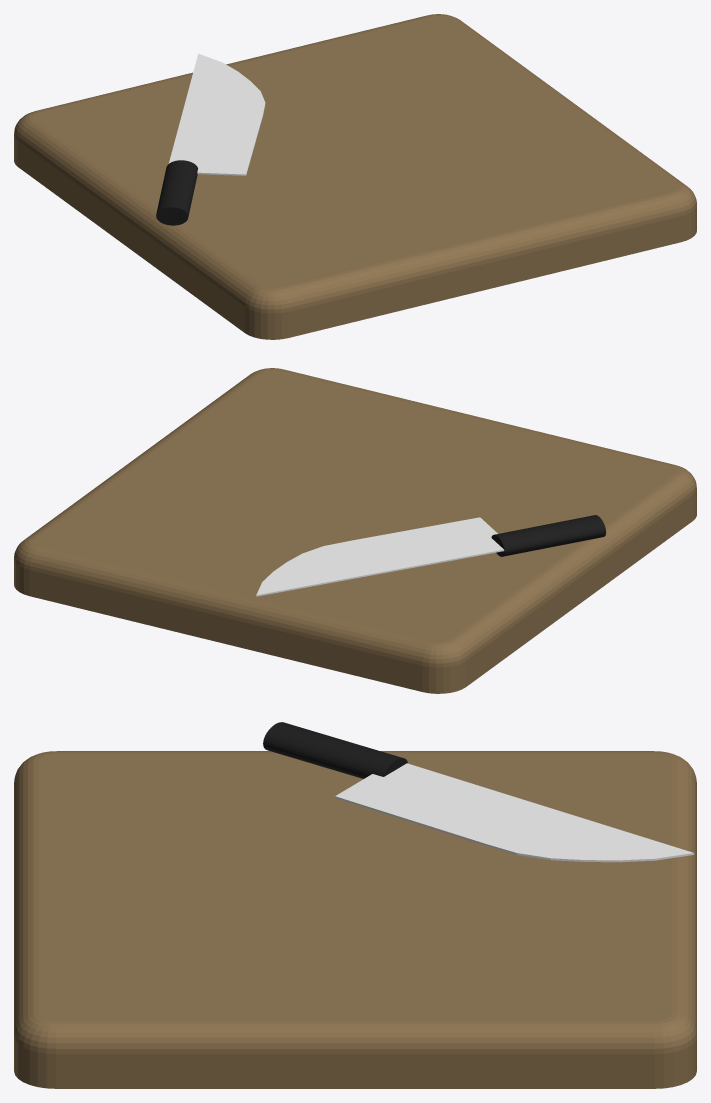
Rendered from chopping board.glb.
3 renders of one model, top to bottom at view 1: azimuth 30°, elevation 25°; view 2: azimuth 150°, elevation 25°; view 3: azimuth 270°, elevation 25°, orthographic. The views are drawn at different scales.
Visible parts, largest first — view 1: Cylinder; view 2: Cylinder; view 3: Cylinder.
Boxes of the visible parts, box(x1,y1,x2,y2) form: Cylinder: box(14, 14, 696, 339); Cylinder: box(14, 368, 696, 693); Cylinder: box(14, 722, 696, 1088).
Size of the model in its own units: 2.01 by 0.2673 by 2.
